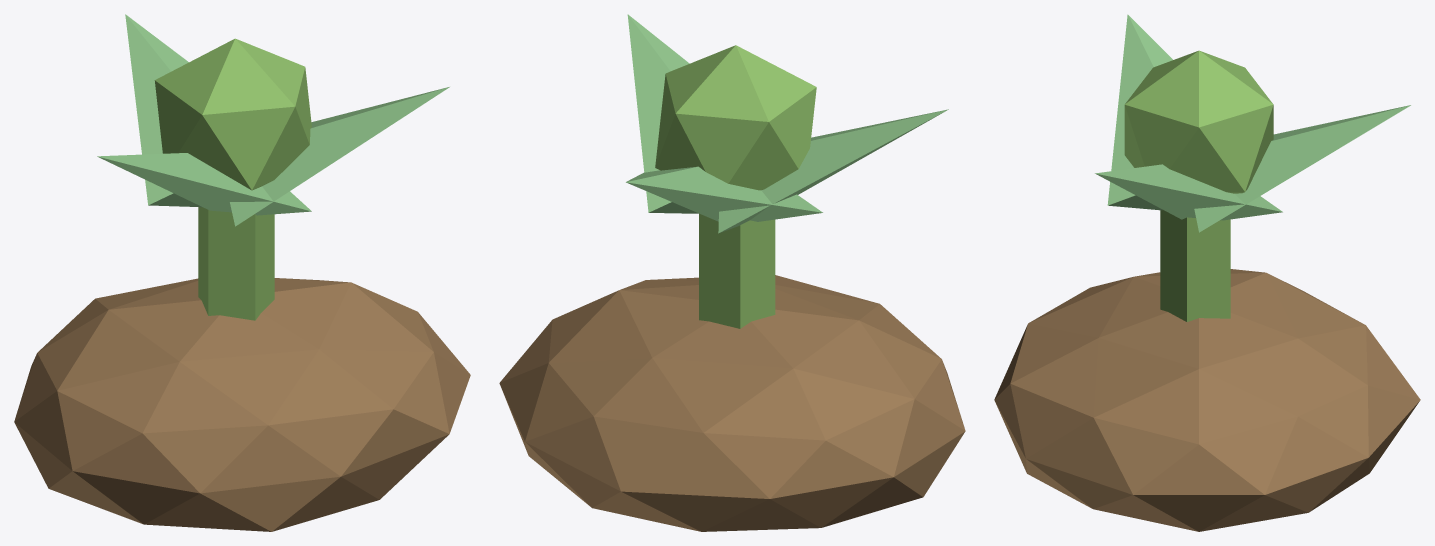
Rendered from forest-g0.glb.
3 views of the same model, side by side, from view 1: azimuth 30°, elevation 25°; view 2: azimuth 150°, elevation 25°; view 3: azimuth 270°, elevation 25° (orthographic). The views are drawn at different scales.
Parts seen in each view (by area): view 1: forest-g0; view 2: forest-g0; view 3: forest-g0.
Part boxes in pixels (box(x1,y1,x2,y2)): forest-g0: box(14, 14, 470, 531); forest-g0: box(499, 14, 965, 531); forest-g0: box(994, 14, 1420, 531).
Bounding box in the file's own units: 0.4563 × 0.45 × 0.4382.
